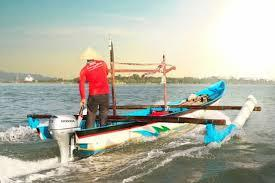fishing boat: (25, 43, 263, 160)
